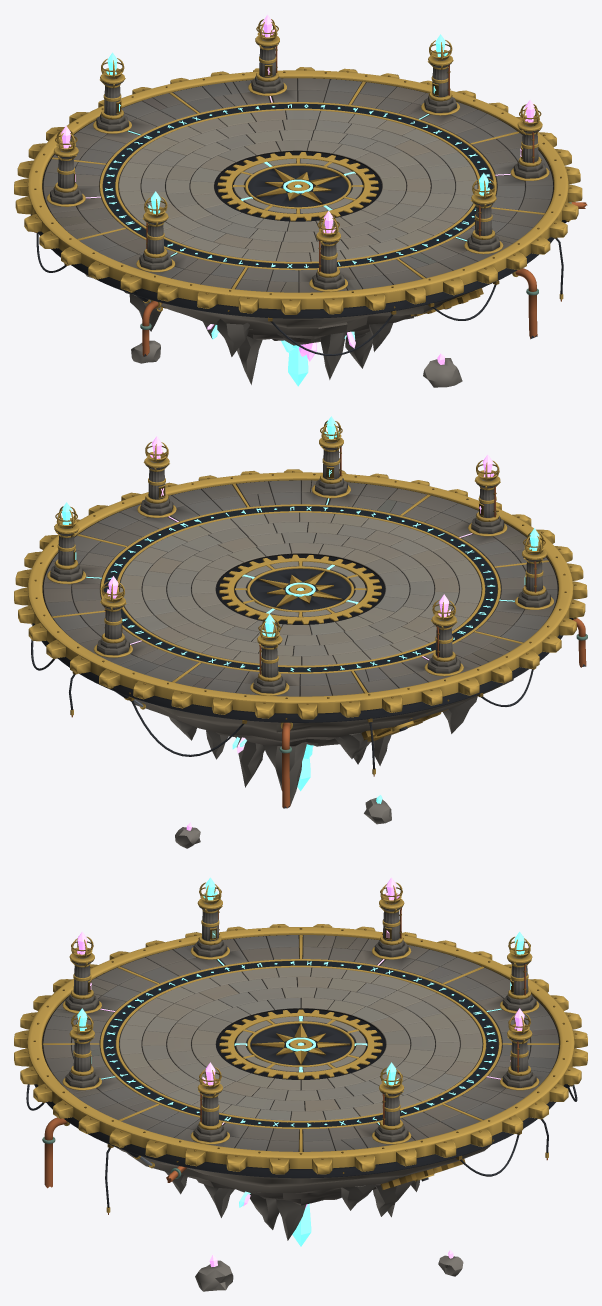
The model's file is arena.glb.
The picture shows the model from 3 angles, top to bottom: view 1: azimuth 30°, elevation 25°; view 2: azimuth 150°, elevation 25°; view 3: azimuth 270°, elevation 25°; orthographic projection.
Visible parts, largest first — view 1: arena_platform, arena_rim, arena_pillars, arena_underside, arena_hanging; view 2: arena_platform, arena_rim, arena_pillars, arena_underside, arena_hanging; view 3: arena_platform, arena_rim, arena_pillars, arena_underside, arena_hanging.
Part boxes in pixels (<box>): arena_platform: <box>42,78,553,292</box>; arena_rim: <box>14,67,582,318</box>; arena_pillars: <box>47,14,549,291</box>; arena_underside: <box>85,151,570,387</box>; arena_hanging: <box>34,202,587,356</box>; arena_platform: <box>42,480,558,696</box>; arena_rim: <box>14,469,587,722</box>; arena_pillars: <box>47,416,553,695</box>; arena_underside: <box>108,553,577,848</box>; arena_hanging: <box>31,618,587,808</box>; arena_platform: <box>42,935,559,1151</box>; arena_rim: <box>14,924,587,1178</box>; arena_pillars: <box>62,877,539,1144</box>; arena_underside: <box>116,1008,573,1291</box>; arena_hanging: <box>26,1084,577,1214</box>.
Bounding box in the file's own units: 26.68 × 14.69 × 26.68.
